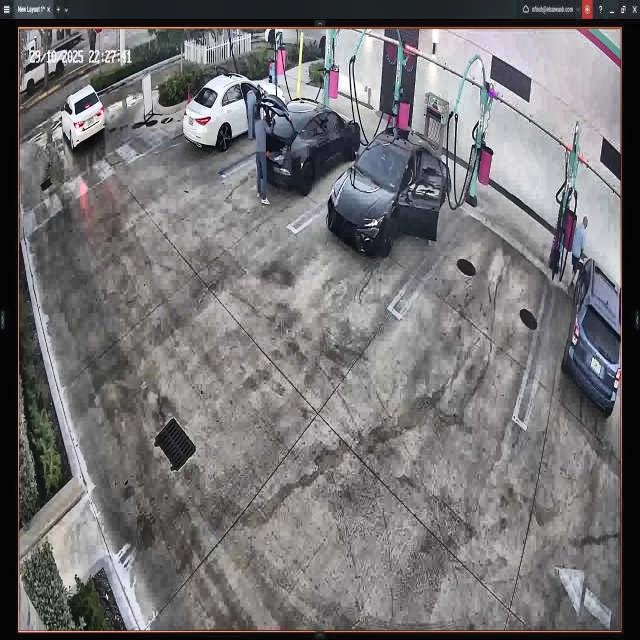Car: (327, 125, 452, 256), (255, 97, 360, 183), (183, 74, 284, 149)
